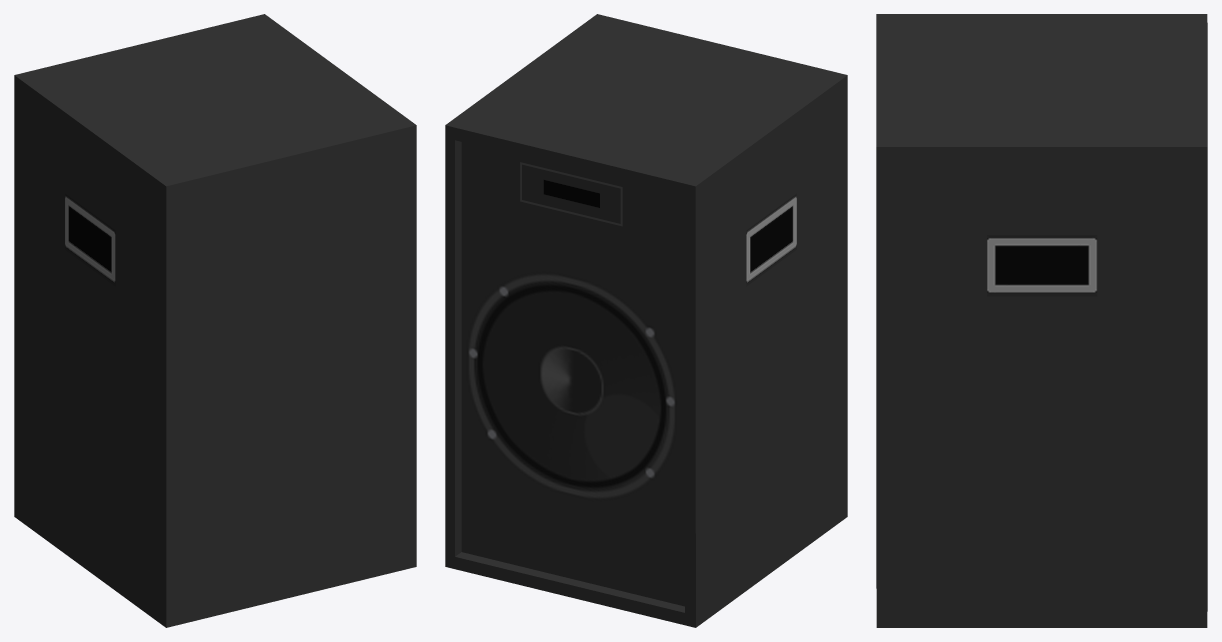
File: Big_amp_speaker_1.fbx
The picture shows the model from 3 angles, left to right: view 1: azimuth 30°, elevation 25°; view 2: azimuth 150°, elevation 25°; view 3: azimuth 270°, elevation 25°; orthographic projection. The views are drawn at different scales.
Parts seen in each view (by area): view 1: Big_amp_speaker_1; view 2: Big_amp_speaker_1; view 3: Big_amp_speaker_1.
Part boxes in pixels (x1,y1,x2,y2): Big_amp_speaker_1: [14, 14, 416, 627]; Big_amp_speaker_1: [445, 14, 847, 627]; Big_amp_speaker_1: [876, 14, 1207, 627].
Bounding box in the file's own units: 1.25 × 2.1 × 1.31.
